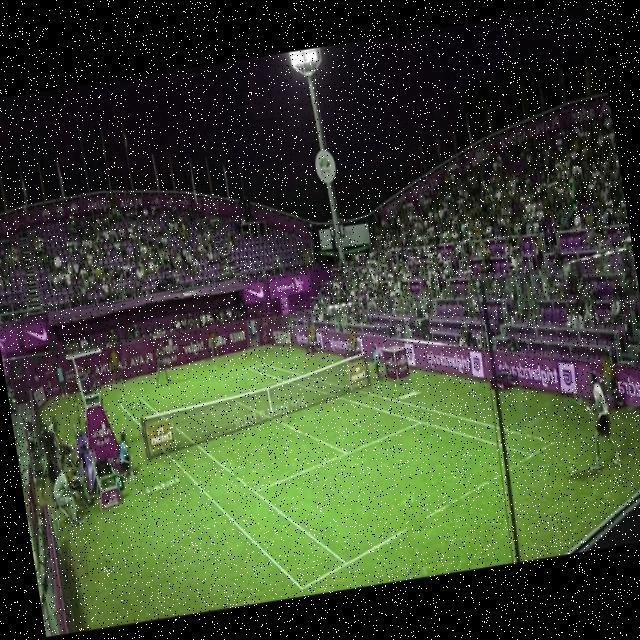court: (116, 321, 574, 614)
net: (133, 347, 380, 465)
player: (568, 368, 626, 477)
